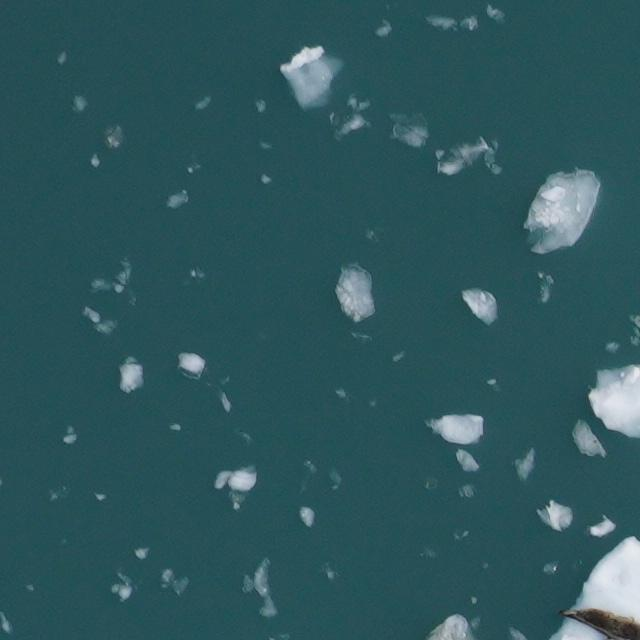seal: (557, 607, 639, 639)
